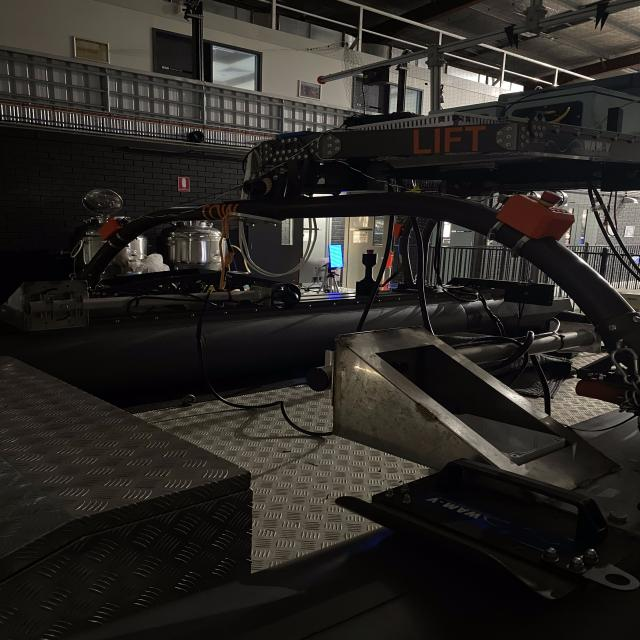matrix: (326, 243, 348, 269)
